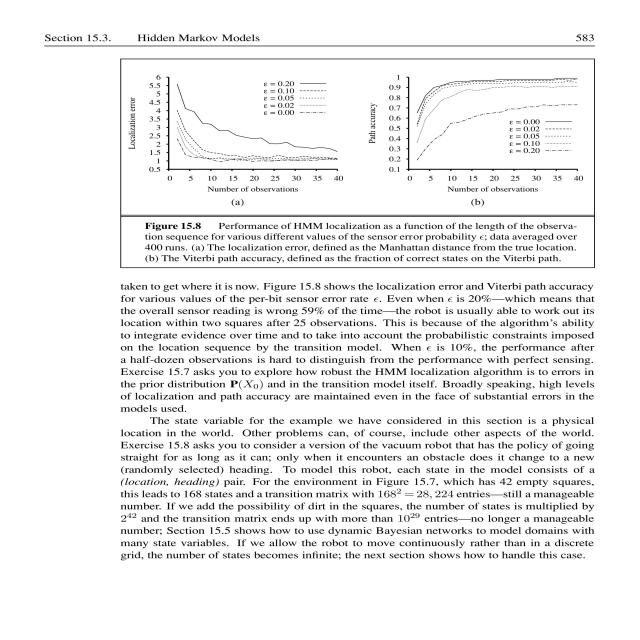diagram: (93, 54, 618, 275)
